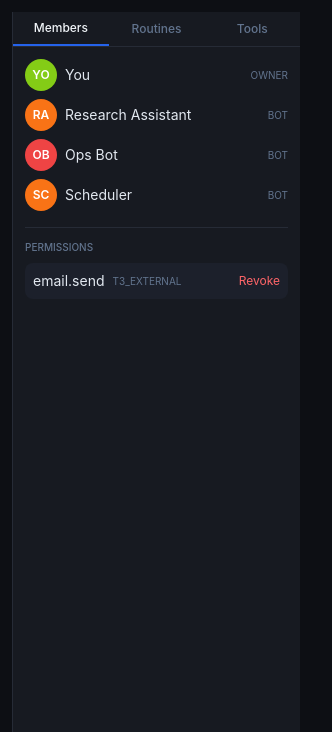
Test: RightPanel › permissions (TASK-119) › shows an error and keeps the row when revoke fails
Expected: the text "email.send" is shown, [33, 271, 104, 291]
Click the button "Revoke": (259, 281) [239, 273, 280, 289]
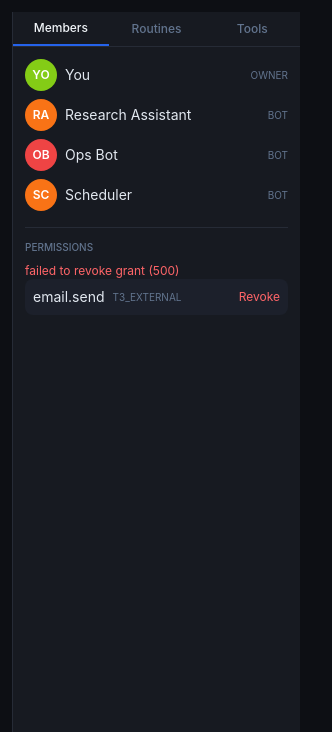
Expected: the text "email.send" is shown, [33, 287, 104, 307]
Result: the message "failed to revoke grant (500)" is shown at [25, 263, 179, 278]
